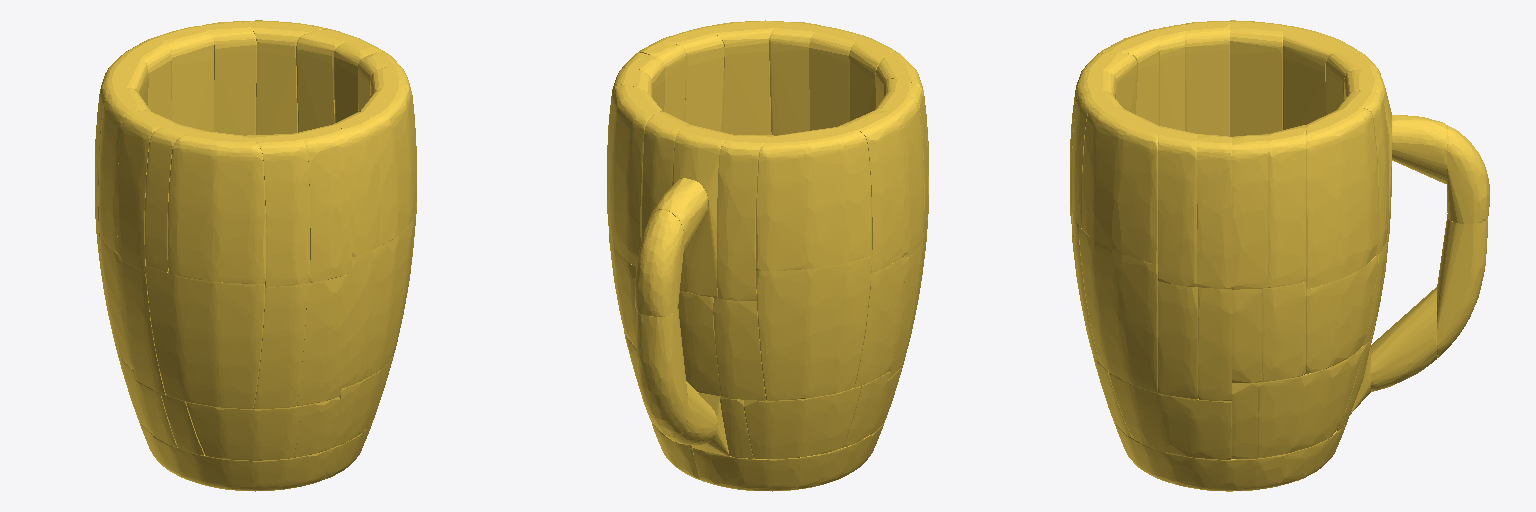
robot.urdf — 313.urdf:
<?xml version="1.0" ?>
<robot name="313.urdf">
	<link name="baseLink">
		<inertial>
			<origin rpy="0 0 0" xyz="0 0 0"/>
				<mass value="0.1"/>
				<inertia ixx="6e-5" ixy="0" ixz="0" iyy="6e-5" iyz="0" izz="6e-5"/>
		</inertial>
		<visual>
			<origin rpy="0 0 0" xyz="0 0 0"/>
			<geometry>
				<mesh filename="10_decom_wt.obj" scale="1.07 1.07 1.13"/>
			</geometry>
			<material name="yellow">
				<color rgba="0.98 0.84 0.35 1"/>
			</material>
		</visual>
		<collision>
			<origin rpy="0 0 0" xyz="0 0 0"/>
			<geometry>
				<mesh filename="10_decom_wt.obj" scale="1.07 1.07 1.13"/>
			</geometry>
		</collision>
	</link>
</robot>

--- Render facts (derived) ---
3 views of the same robot in one strip: view 1: azimuth 30°, elevation 25°; view 2: azimuth 150°, elevation 25°; view 3: azimuth 270°, elevation 25° (orthographic).
Robot: 313.urdf — 1 links, 0 joints (none); root link baseLink; default pose: every joint at zero.
Visible links, largest first — view 1: baseLink; view 2: baseLink; view 3: baseLink.
Boxes of the visible links, x1,y1,x2,y2 form: baseLink: (95, 20, 416, 491); baseLink: (607, 20, 928, 491); baseLink: (1070, 20, 1489, 491).
Size in the robot's own frame: 0.1046 by 0.1368 by 0.1324 metres.
1 mesh visuals loaded from 1 distinct referenced files (1 OBJ).